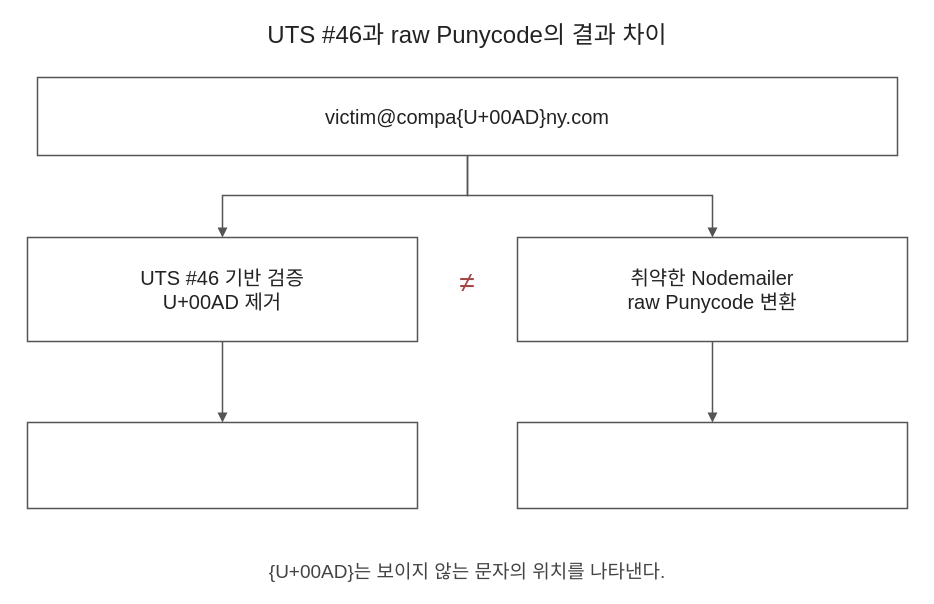
The diagram is 934 pixels wide and 604 high, and some of its shapes have lost their labels. Each missing label, with the centre of its shape:
"company.com 허용 목록 통과" belongs at pixel 222 465.
"xn--company-pka.com SMTP 수신 도메인" belongs at pixel 712 465.
